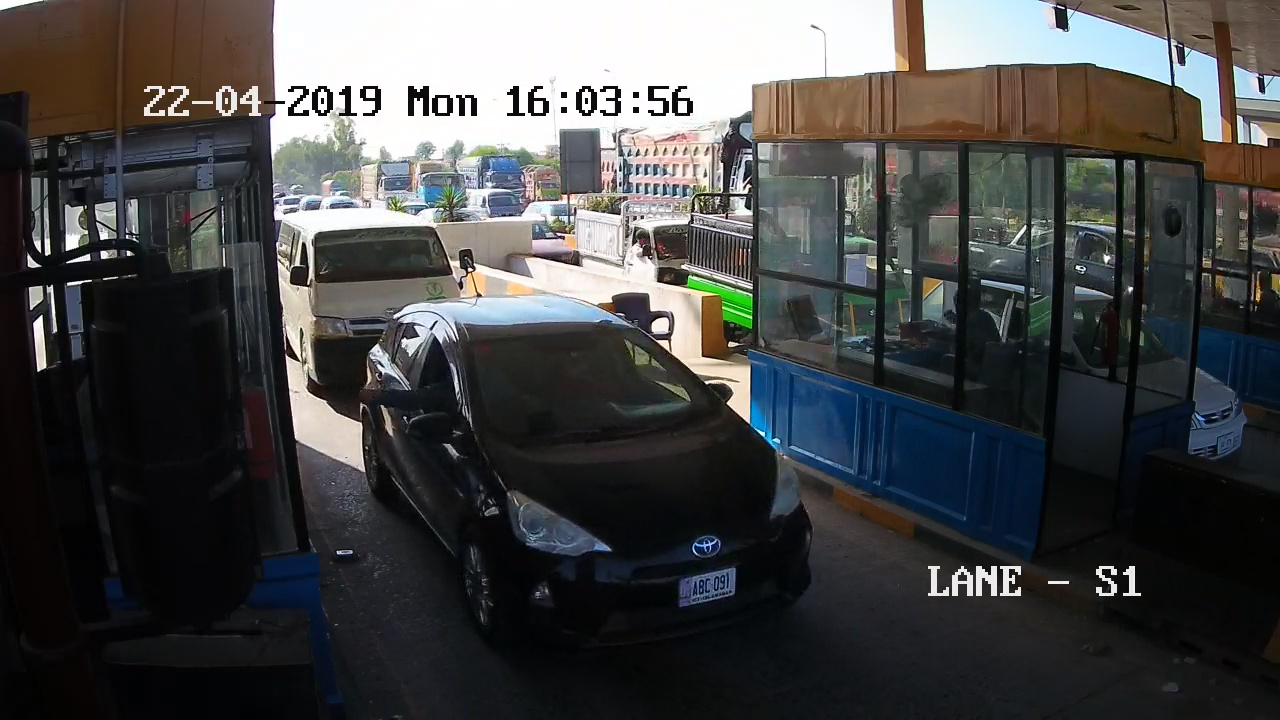Number Plate (Car): (677, 574, 738, 604)
